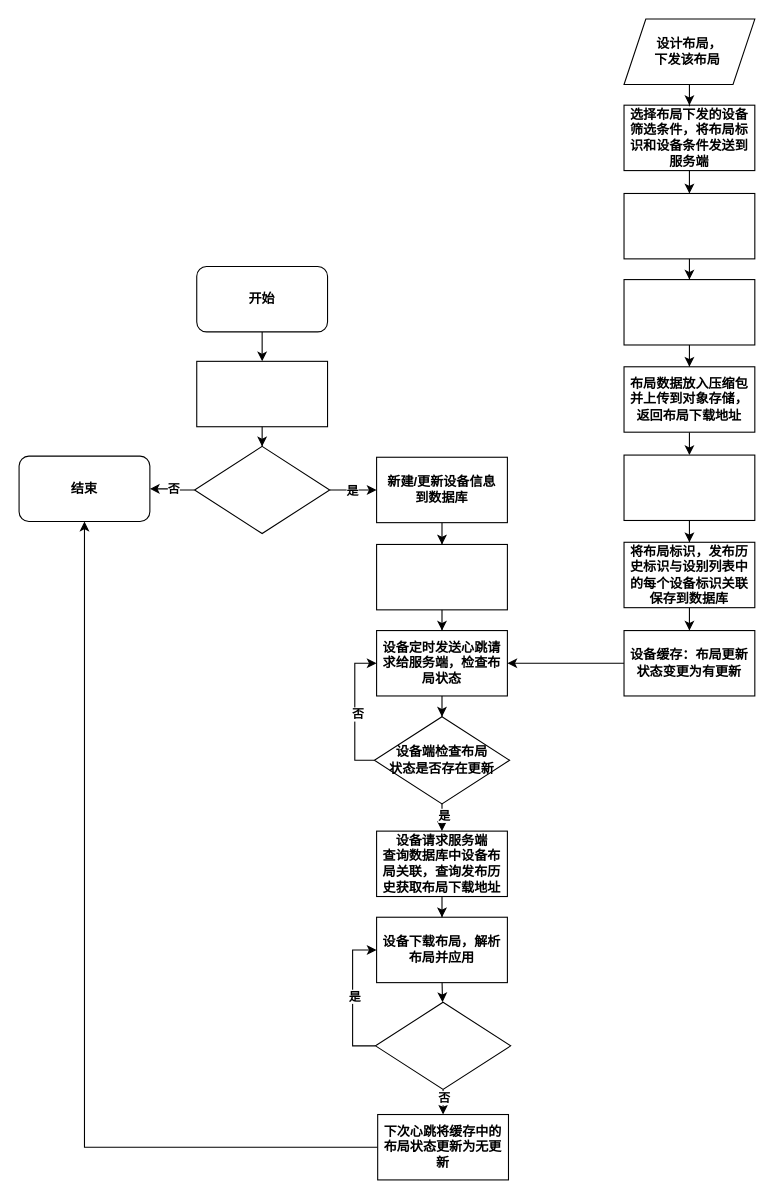
Some shapes in this 774 by 1199 pixel diagram are drawn without their labels. Each missing label, with the centre of its shape:
将布局下载地址，设备选择条件等信息保存为发布历史，更新到数据库: (689,487)
服务端判断 是否合法 被授权设备: (261,489)
根据布局标识查询有效布局信息: (689,225)
根据设备条件查询设备列表: (689,311)
解析布局 是否失败: (442,1045)
设备定时发送心跳请求给服务端: (441,576)
设备开机，携带设备信息向服务端登录: (262,393)
